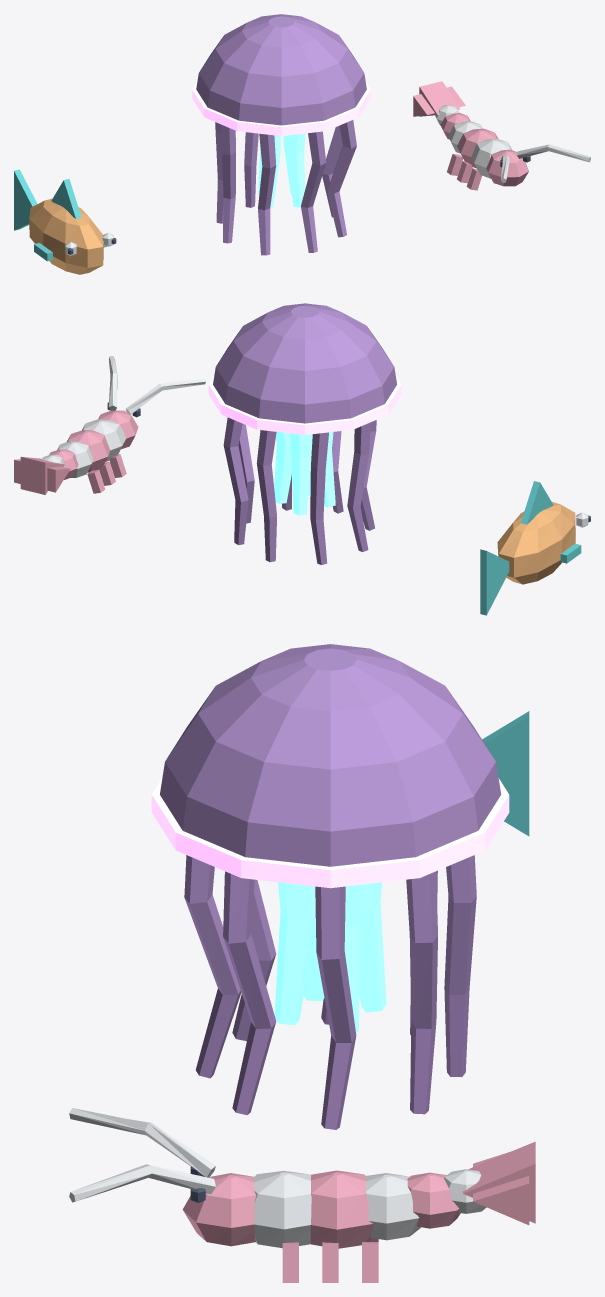
3 renders of one model, top to bottom at view 1: azimuth 30°, elevation 25°; view 2: azimuth 150°, elevation 25°; view 3: azimuth 270°, elevation 25°, orthographic. The views are drawn at different scales.
Visible parts, largest first — view 1: DL019_SmallFauna_coral_violet, DL019_SmallFauna_coral_pink, DL019_SmallFauna_coral_orange, DL019_SmallFauna_hull_offwhite, DL019_SmallFauna_emissive_violet, DL019_SmallFauna_coral_turq, DL019_SmallFauna_emissive_teal; view 2: DL019_SmallFauna_coral_violet, DL019_SmallFauna_coral_pink, DL019_SmallFauna_coral_orange, DL019_SmallFauna_emissive_teal, DL019_SmallFauna_hull_offwhite, DL019_SmallFauna_emissive_violet, DL019_SmallFauna_coral_turq; view 3: DL019_SmallFauna_coral_violet, DL019_SmallFauna_coral_pink, DL019_SmallFauna_hull_offwhite, DL019_SmallFauna_emissive_teal, DL019_SmallFauna_emissive_violet, DL019_SmallFauna_coral_turq.
Boxes of the visible parts, bbox=[...] form: DL019_SmallFauna_coral_violet: bbox=[196, 14, 366, 255]; DL019_SmallFauna_coral_pink: bbox=[413, 81, 528, 190]; DL019_SmallFauna_coral_orange: bbox=[29, 198, 103, 274]; DL019_SmallFauna_hull_offwhite: bbox=[65, 104, 590, 255]; DL019_SmallFauna_emissive_violet: bbox=[192, 81, 370, 136]; DL019_SmallFauna_coral_turq: bbox=[14, 169, 106, 261]; DL019_SmallFauna_emissive_teal: bbox=[258, 133, 305, 207]; DL019_SmallFauna_coral_violet: bbox=[213, 303, 396, 564]; DL019_SmallFauna_coral_pink: bbox=[14, 410, 138, 494]; DL019_SmallFauna_coral_orange: bbox=[497, 502, 575, 584]; DL019_SmallFauna_emissive_teal: bbox=[274, 432, 335, 515]; DL019_SmallFauna_hull_offwhite: bbox=[42, 356, 588, 527]; DL019_SmallFauna_emissive_violet: bbox=[208, 376, 401, 434]; DL019_SmallFauna_coral_turq: bbox=[480, 481, 581, 615]; DL019_SmallFauna_coral_violet: bbox=[160, 644, 501, 1129]; DL019_SmallFauna_coral_pink: bbox=[182, 1141, 535, 1282]; DL019_SmallFauna_hull_offwhite: bbox=[69, 1108, 486, 1248]; DL019_SmallFauna_emissive_teal: bbox=[274, 882, 386, 1032]; DL019_SmallFauna_emissive_violet: bbox=[151, 778, 509, 888]; DL019_SmallFauna_coral_turq: bbox=[482, 711, 529, 836].
Bounding box in the file's own units: 3.42 × 1.39 × 1.41.
